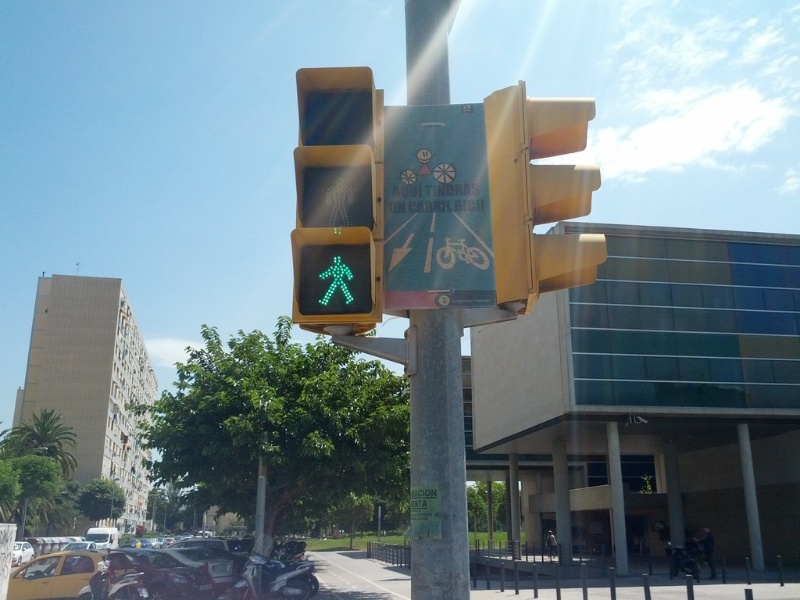pedestrian_crossing_green: (297, 248, 375, 313)
